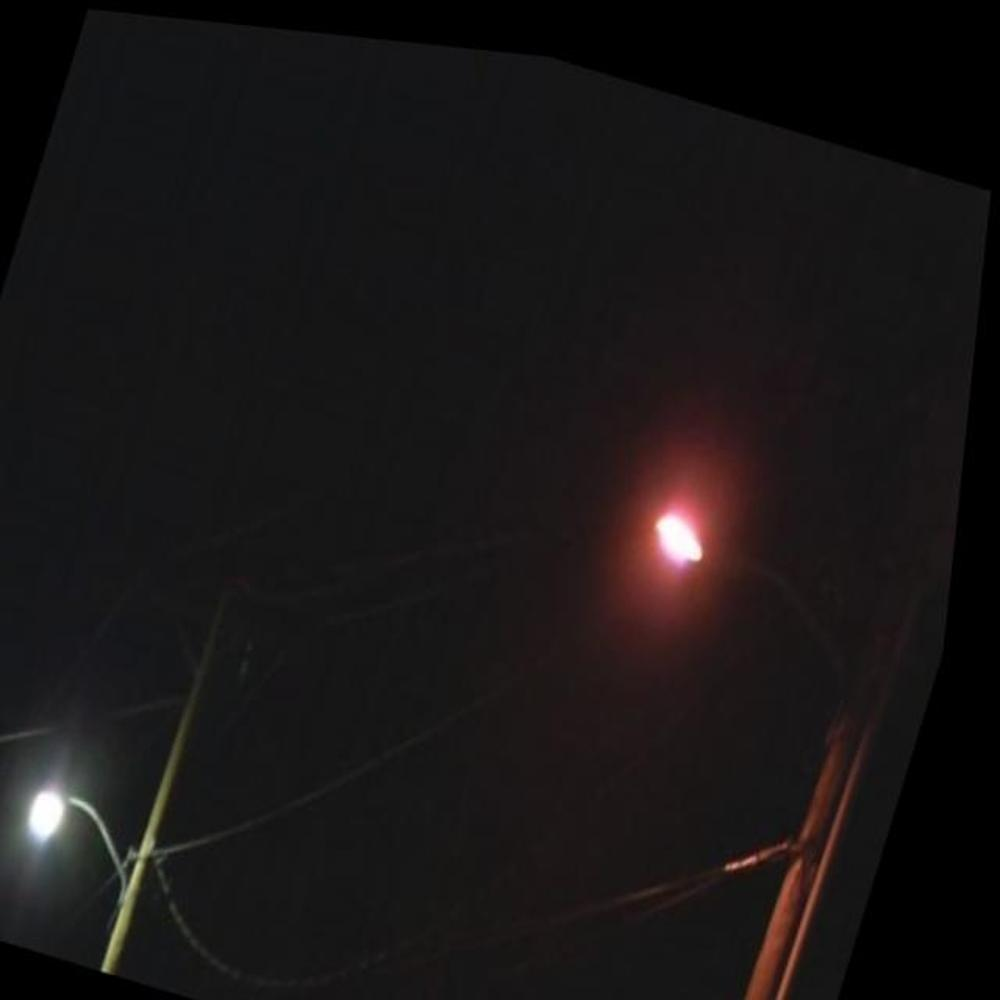shelf: (487, 412, 970, 1000)
